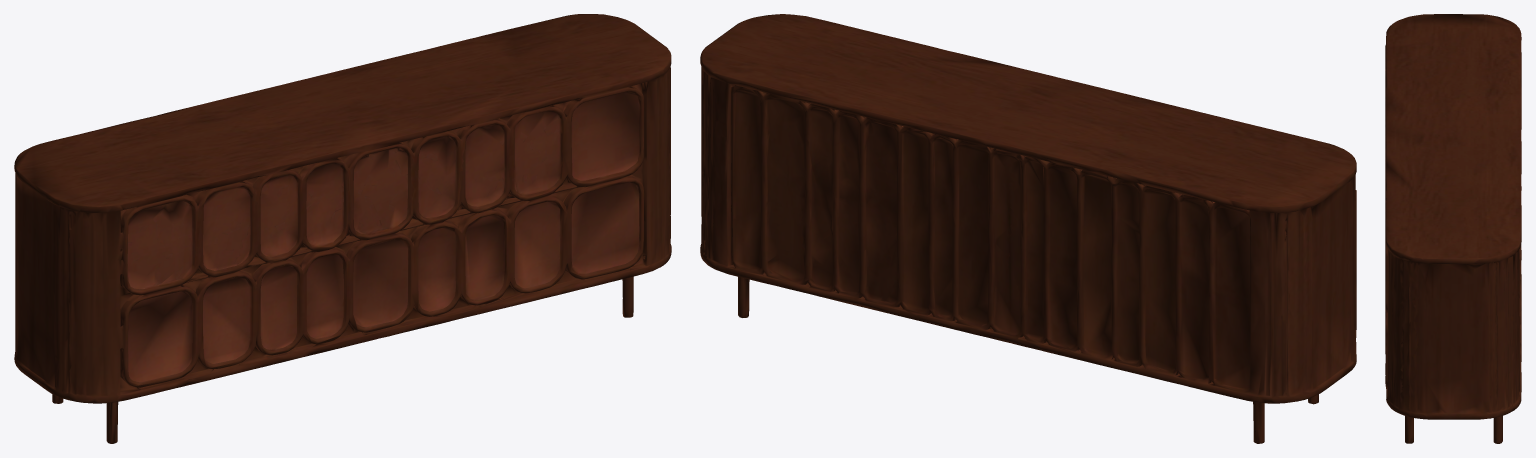
The model's file is rounded-wood-credenza.glb.
3 views of the same model, side by side, from view 1: azimuth 30°, elevation 25°; view 2: azimuth 150°, elevation 25°; view 3: azimuth 270°, elevation 25° (orthographic). The views are drawn at different scales.
Parts seen in each view (by area): view 1: world; view 2: world; view 3: world.
Part boxes in pixels (x1,y1,x2,y2): world: [14, 14, 671, 443]; world: [700, 14, 1356, 443]; world: [1385, 14, 1521, 443].
Size of the model in its own units: 1 by 0.3877 by 0.2353.
1 material, 1 textured.
